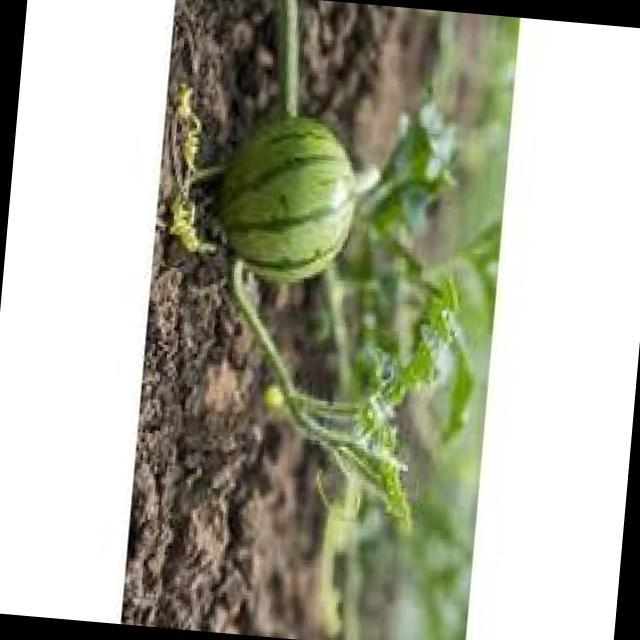watermelon: (193, 106, 358, 286)
